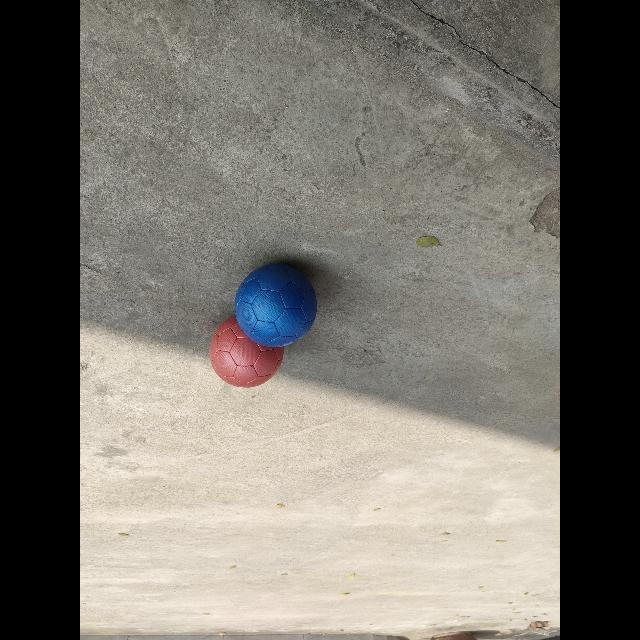B: (235, 264, 317, 348)
R: (209, 317, 284, 387)
